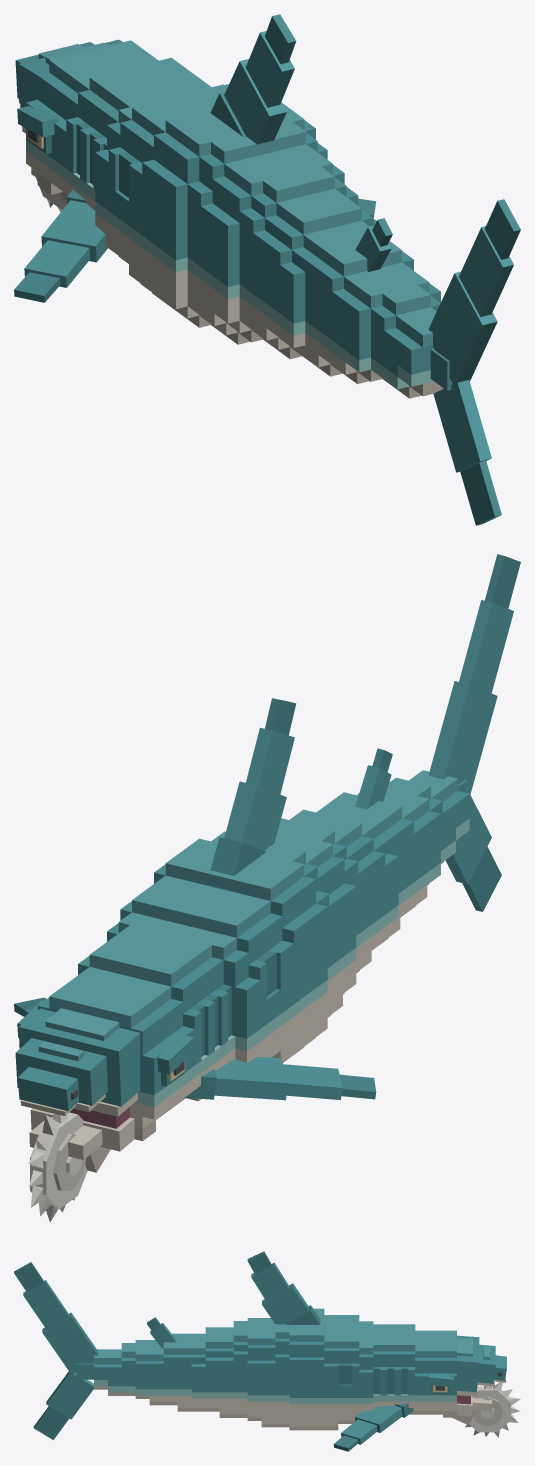
The model's file is Helicoprion.glb.
The picture shows the model from 3 angles, top to bottom: view 1: azimuth 30°, elevation 25°; view 2: azimuth 150°, elevation 25°; view 3: azimuth 270°, elevation 25°; orthographic projection. The views are drawn at different scales.
Visible parts, largest first — view 1: S4, Tail, S1, S6, Head, S5, S3, S7, S9, S8, S10, S11 (+1 smaller); view 2: Head, S4, S1, Tail, S3, S2, S9, S7, S6, S5, S8, S10 (+1 smaller); view 3: Head, S4, Tail, S1, S3, S5, S6, S7, S2, S9, S8, S10 (+1 smaller).
Part boxes in pixels (x1,y1,x2,y2): S4: [142, 14, 327, 327]; Tail: [428, 199, 520, 525]; S1: [14, 57, 376, 302]; S6: [214, 154, 358, 348]; Head: [15, 39, 158, 212]; S5: [187, 122, 318, 344]; S3: [108, 84, 228, 302]; S7: [253, 188, 376, 359]; S9: [318, 218, 415, 383]; S8: [280, 220, 369, 376]; S10: [345, 272, 440, 388]; S11: [384, 307, 443, 398]; Head: [15, 967, 194, 1222]; S4: [154, 698, 327, 1062]; S1: [14, 935, 376, 1108]; Tail: [428, 554, 520, 911]; S3: [120, 875, 293, 1061]; S2: [107, 912, 260, 1101]; S9: [331, 748, 427, 917]; S7: [289, 809, 385, 972]; S6: [274, 818, 358, 994]; S5: [211, 831, 342, 1017]; S8: [316, 802, 400, 950]; S10: [357, 777, 442, 885]; Head: [415, 1330, 520, 1437]; S4: [247, 1251, 324, 1430]; Tail: [14, 1262, 98, 1439]; S1: [333, 1324, 415, 1451]; S3: [324, 1315, 359, 1430]; S5: [261, 1318, 289, 1427]; S6: [233, 1318, 261, 1420]; S7: [205, 1327, 233, 1417]; S2: [359, 1321, 387, 1413]; S9: [147, 1317, 177, 1405]; S8: [177, 1333, 205, 1411]; S10: [121, 1340, 149, 1398].
Bounding box in the file's own units: 13.97 × 13.3 × 32.67.
